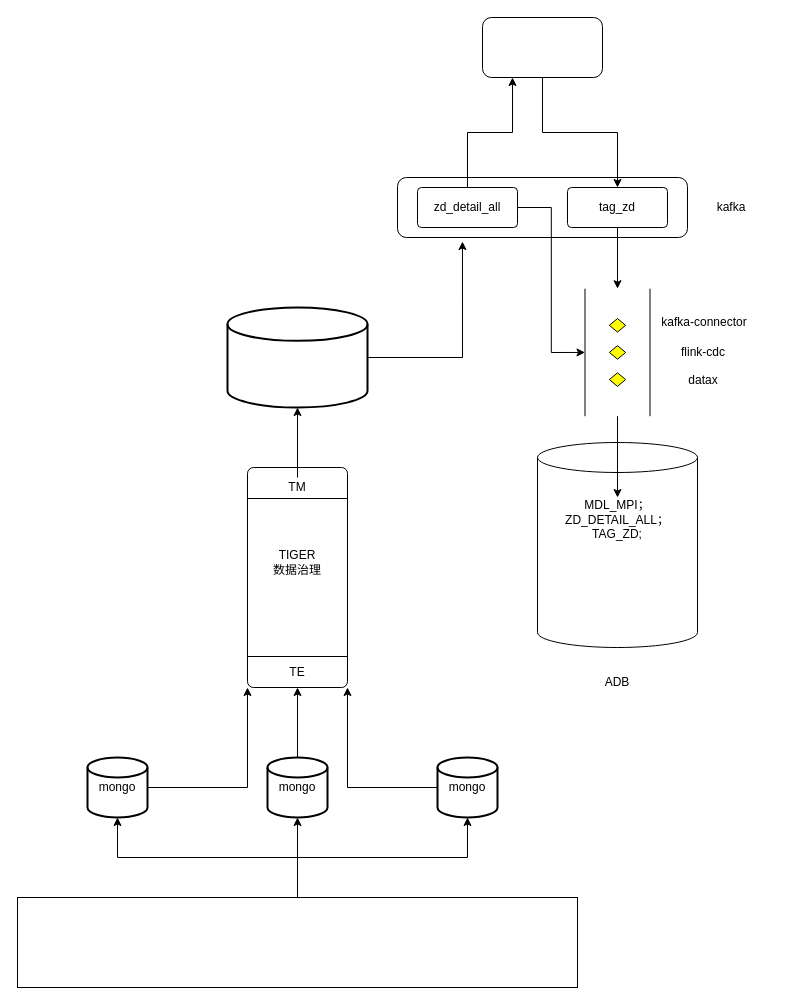
Some shapes in this 802 by 1005 pixel diagram are drawn without their labels. Here are the shapes that lost their labels. From the top down, the centre of each, then its label:
pixel 542 47: b标签系统
pixel 297 357: mongo collection:zd_detail_all
pixel 297 942: hospital/client
